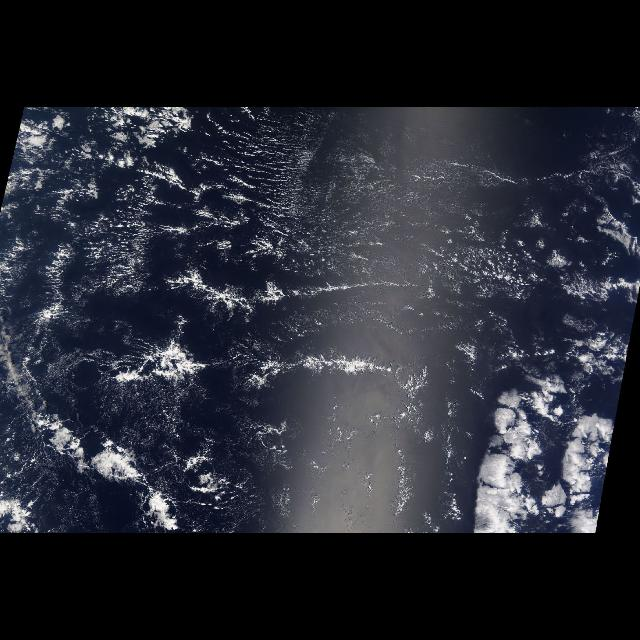Fish: (33, 406, 207, 530)
Flower: (456, 361, 596, 507)
Sugar: (190, 116, 638, 290), (4, 217, 174, 303)
